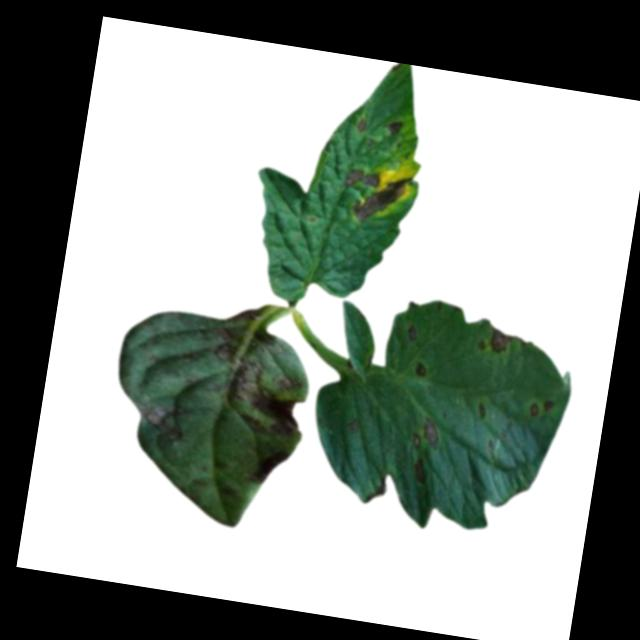Early_blight: (196, 319, 318, 439), (348, 169, 407, 226), (126, 398, 191, 448), (247, 443, 293, 486), (409, 413, 444, 457), (475, 323, 515, 359), (340, 164, 380, 191), (408, 456, 430, 484), (527, 395, 553, 418), (384, 115, 404, 138), (352, 116, 369, 134), (402, 324, 417, 344), (410, 360, 427, 377)
